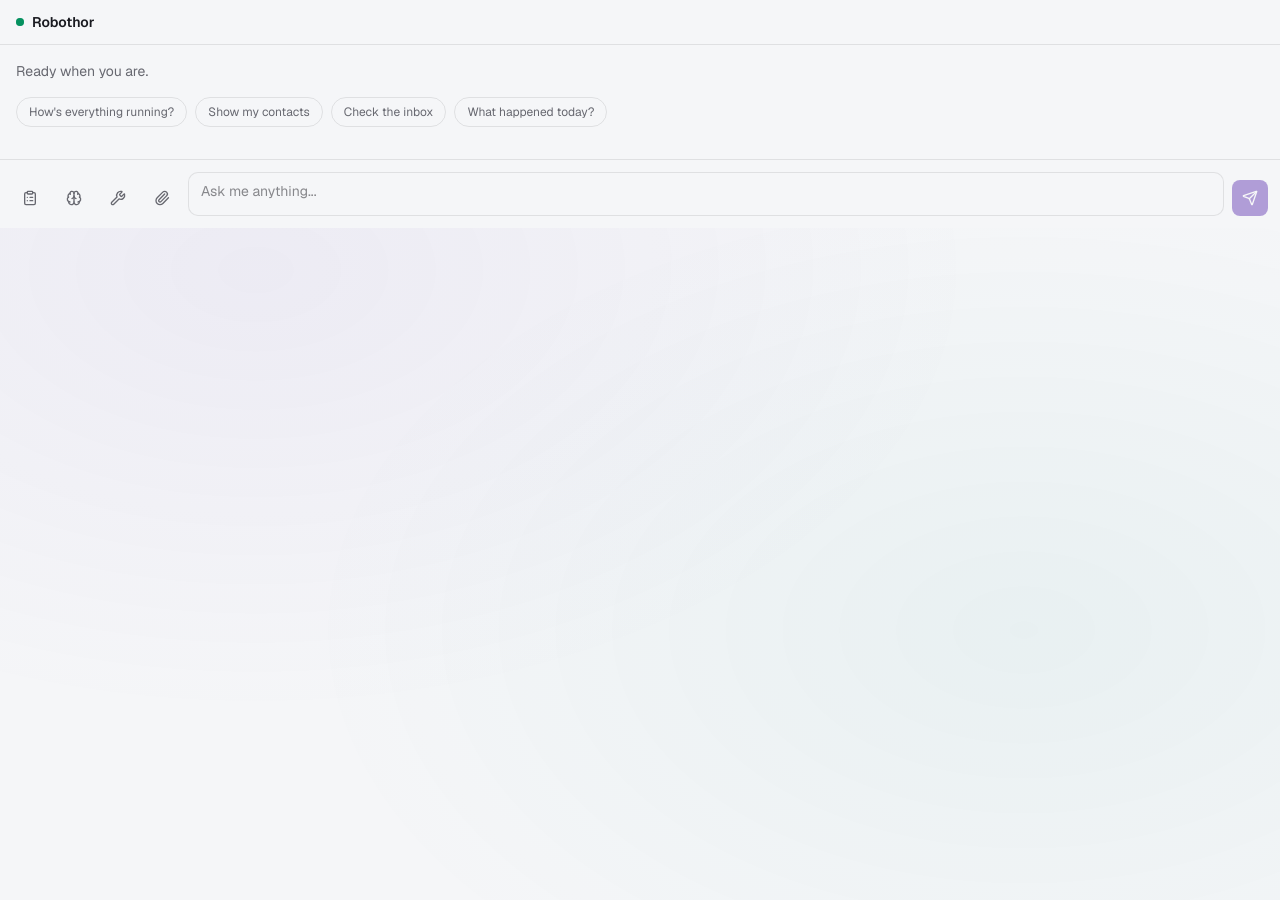
it: renders acceptance and elapsed progress, then waits for durable stop acknowledgement
The image size is (1280, 900).
Type "Perform the synthetic action" into the text box with test id "chat-input". click: (706, 194)
box: [188,172,1224,216]
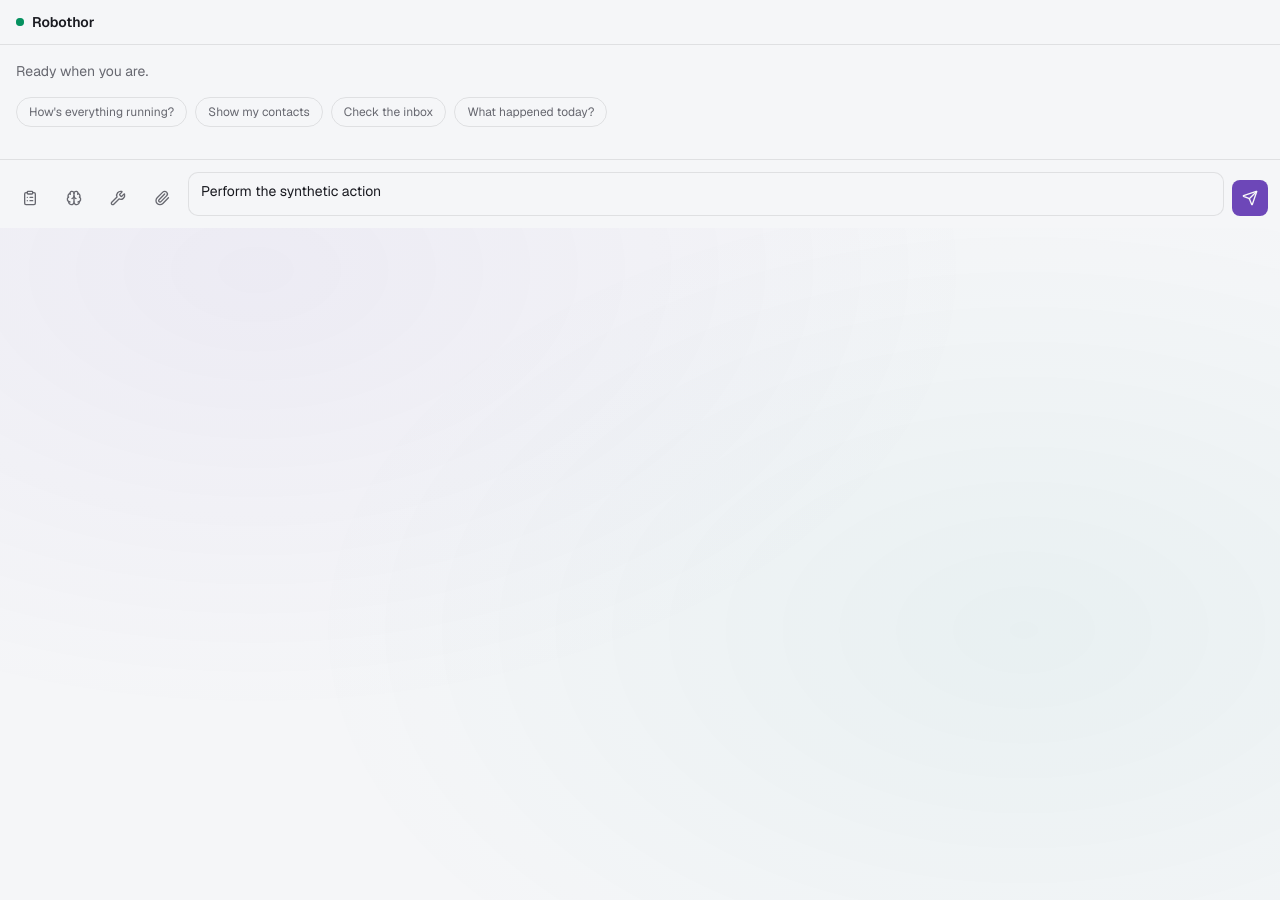
Click the button with test id "send-button". click: click(1250, 198)
box: [1232,180,1268,216]
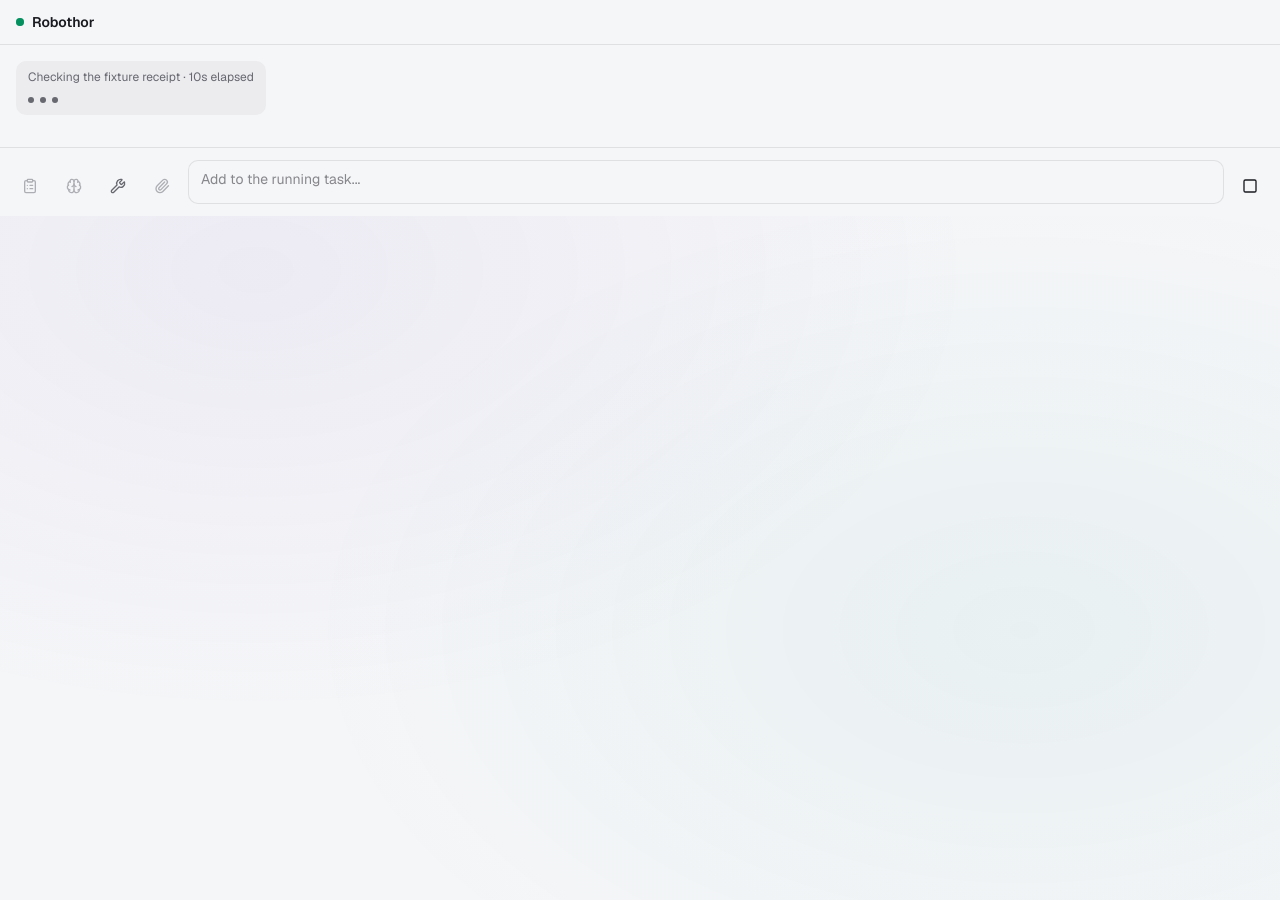
Now the text "Checking the fixture receipt · 10s elapsed" is shown, box [28,69,254,85]
Click the button named "Stop request". click: click(1250, 186)
box: [1232,168,1268,204]
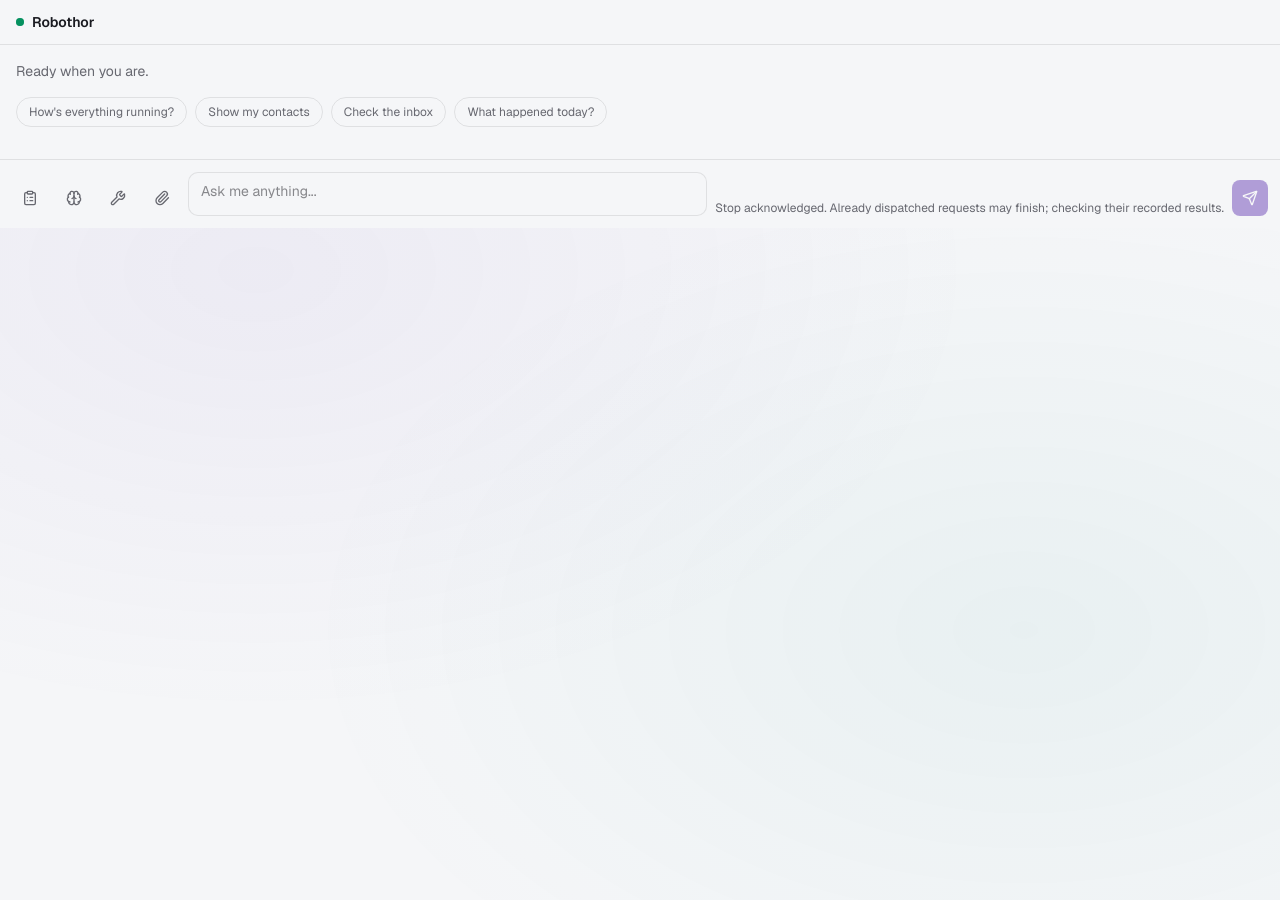
Now the text "Stop acknowledged. Already dispatched requests may finish" is shown, box [715,200,1224,216]
